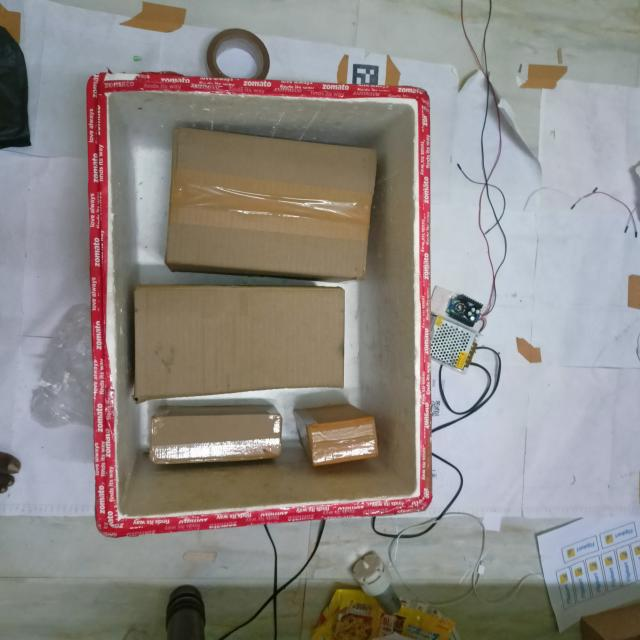box: (179, 121, 378, 287), (116, 276, 348, 397), (143, 410, 283, 469), (301, 417, 388, 474)
